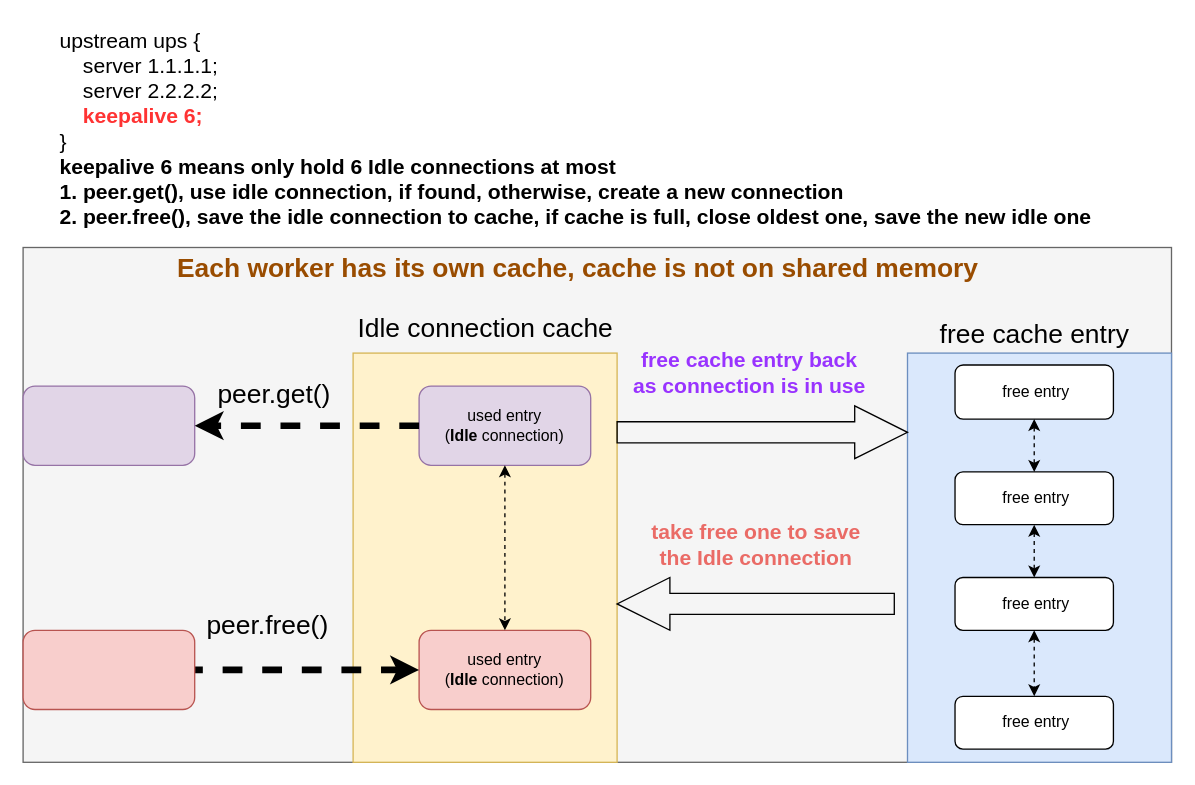
Image size: 1195x785. Some labels were removed from this diagram. Here are the shapes that lost their labels. From the top down, the centre of each, then its label:
At point (108, 425): "used connection".
At point (108, 669): "Idle connection".
